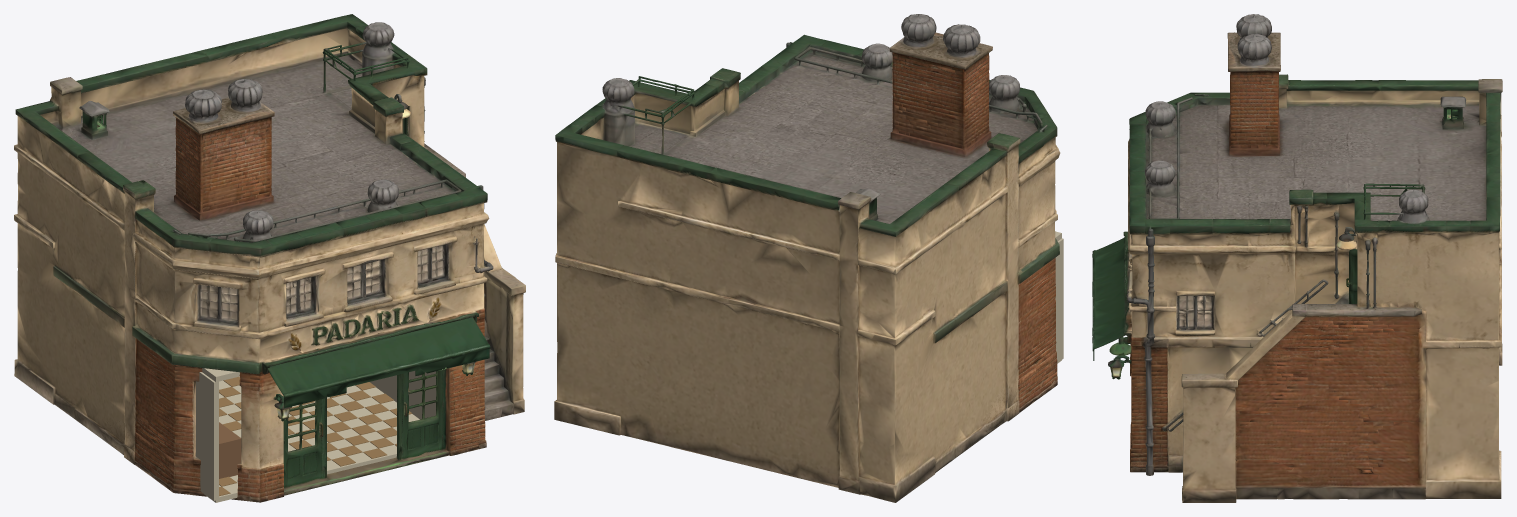
Rendered from padaria-secreta.glb.
3 views of the same model, side by side, from view 1: azimuth 30°, elevation 25°; view 2: azimuth 150°, elevation 25°; view 3: azimuth 270°, elevation 25° (orthographic). The views are drawn at different scales.
Visible parts, largest first — view 1: tripo_node_44371a85-fb00-4e0b-9169-07c627aad60a, Floor, Tile, Counter_left; view 2: tripo_node_44371a85-fb00-4e0b-9169-07c627aad60a, Floor; view 3: tripo_node_44371a85-fb00-4e0b-9169-07c627aad60a.
Part boxes in pixels (left/top/right/bottom): tripo_node_44371a85-fb00-4e0b-9169-07c627aad60a: left=14, top=14, right=525, bottom=502; Floor: left=195, top=371, right=436, bottom=502; Tile: left=219, top=376, right=412, bottom=496; Counter_left: left=219, top=422, right=241, bottom=478; tripo_node_44371a85-fb00-4e0b-9169-07c627aad60a: left=554, top=14, right=1060, bottom=502; Floor: left=1055, top=238, right=1063, bottom=363; tripo_node_44371a85-fb00-4e0b-9169-07c627aad60a: left=1092, top=14, right=1502, bottom=502.
Bounding box in the file's own units: 11.16 × 11.09 × 11.66.
Materials: 10 (1 with a texture image).
